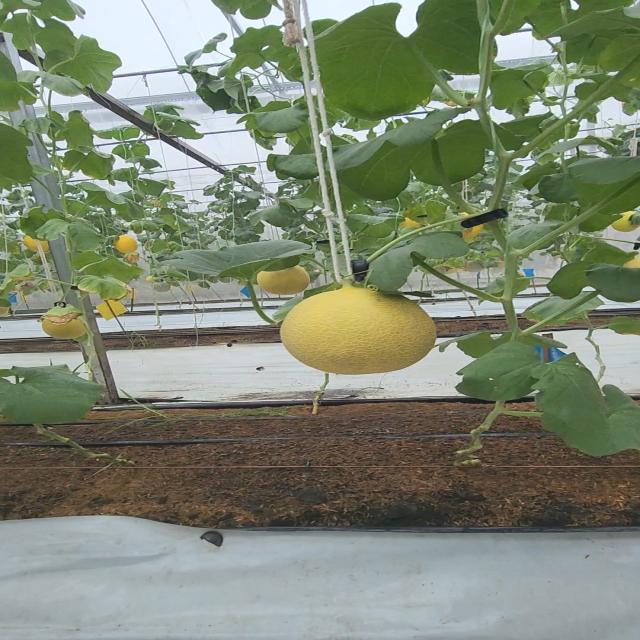Front-melon: (279, 293, 436, 373)
Rear-melon: (257, 270, 310, 292), (48, 317, 87, 339)
